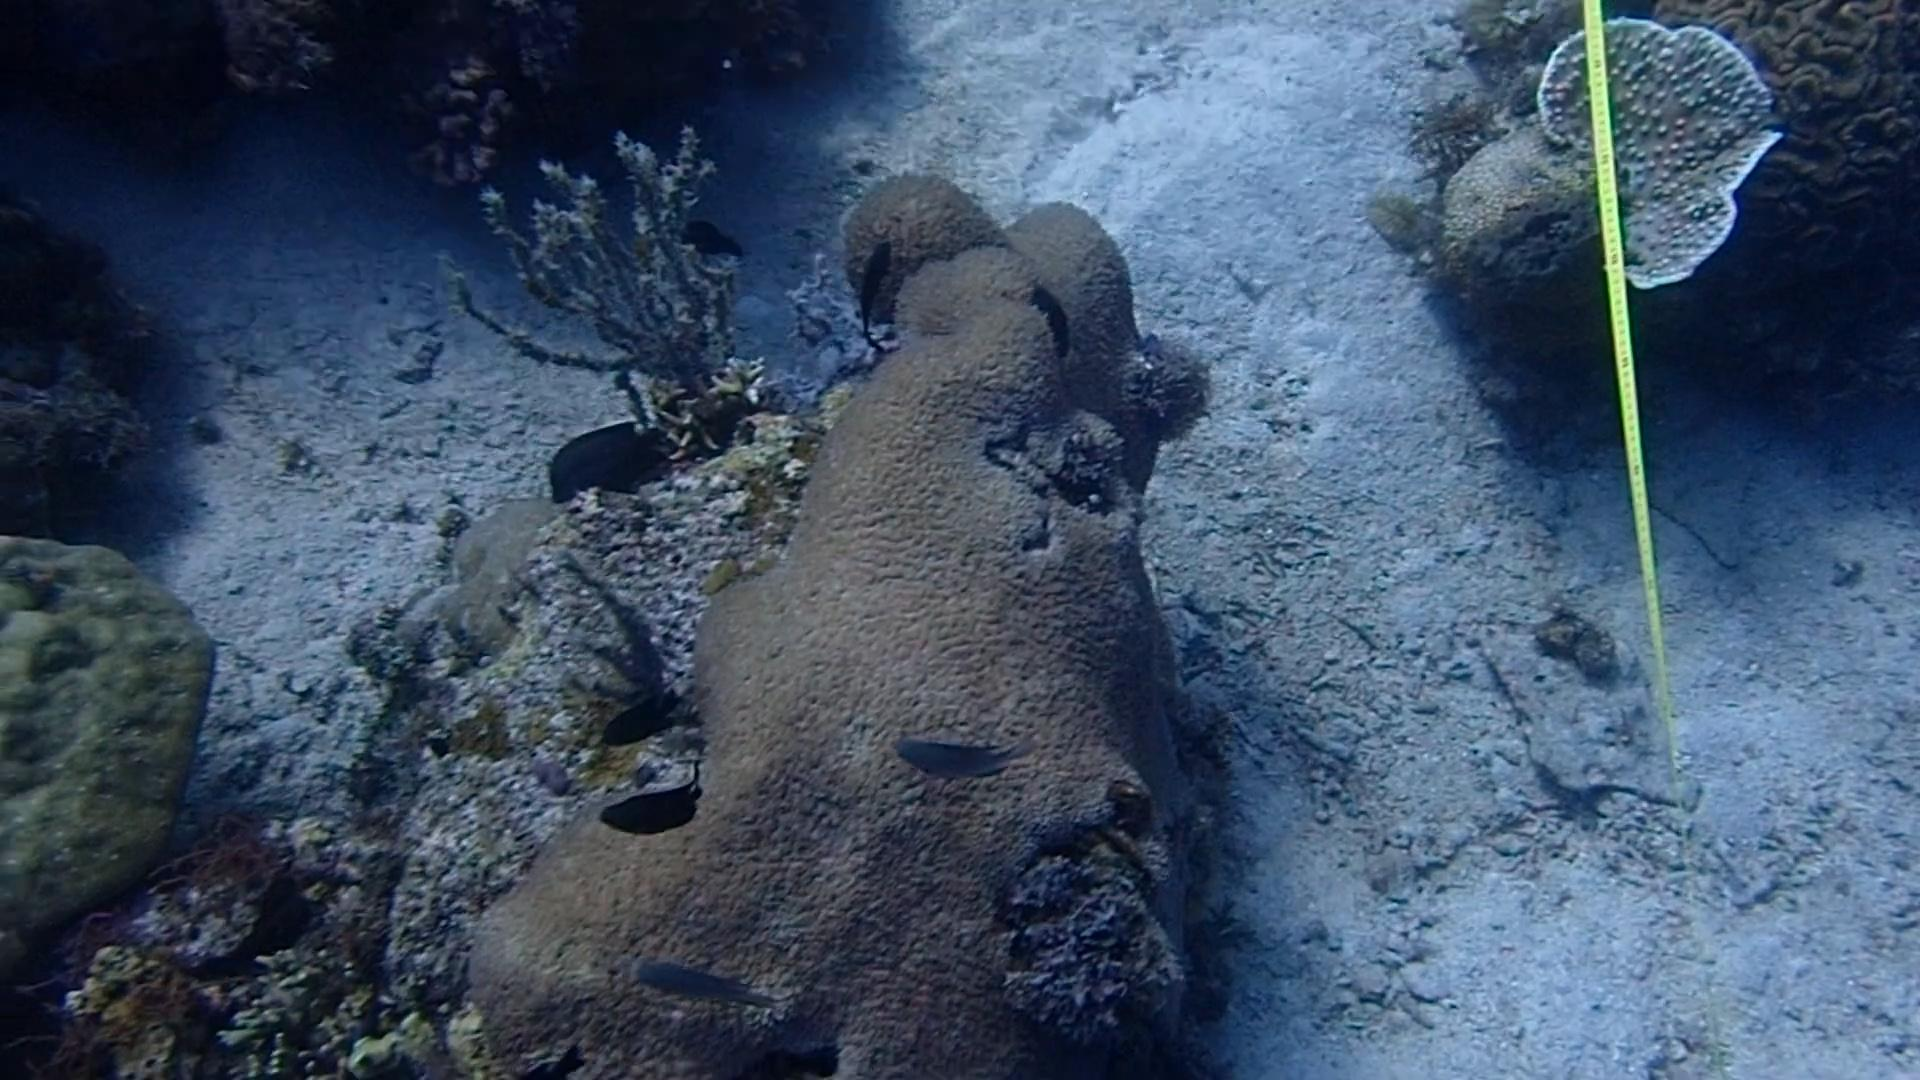Big Dark Blue Fish: (542, 415, 665, 504)
Dark Fish: (582, 769, 711, 847), (662, 200, 749, 277), (595, 680, 682, 753), (836, 236, 897, 338), (1014, 269, 1081, 349)
Light Fish: (615, 936, 775, 1027), (882, 724, 1021, 798)
